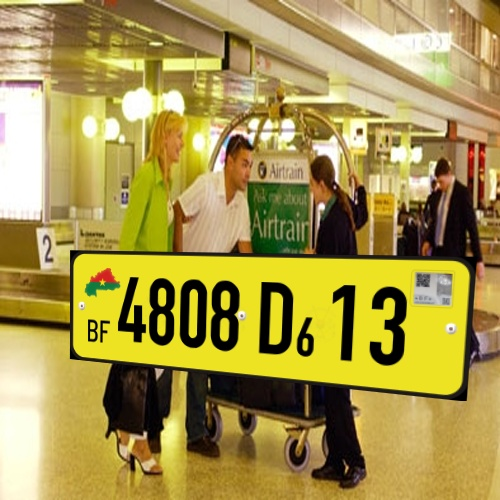plate: (60, 239, 485, 410)
